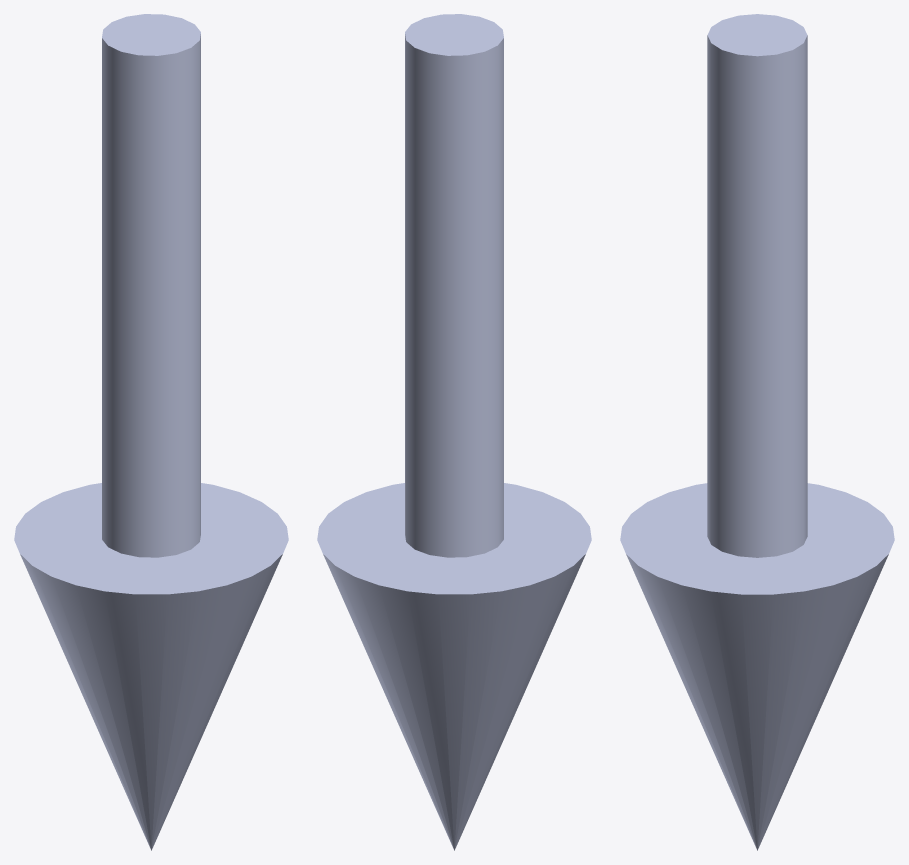
The model's file is Arrow_Pointer.FBX.
The picture shows the model from 3 angles, left to right: view 1: azimuth 30°, elevation 25°; view 2: azimuth 150°, elevation 25°; view 3: azimuth 270°, elevation 25°; orthographic projection.
Parts seen in each view (by area): view 1: Revolve1; view 2: Revolve1; view 3: Revolve1.
Boxes of the visible parts, <box> form: Revolve1: <box>14,14,288,850</box>; Revolve1: <box>317,14,591,850</box>; Revolve1: <box>620,14,894,850</box>.
Size of the model in its own units: 1.13 by 3.71 by 1.13.
